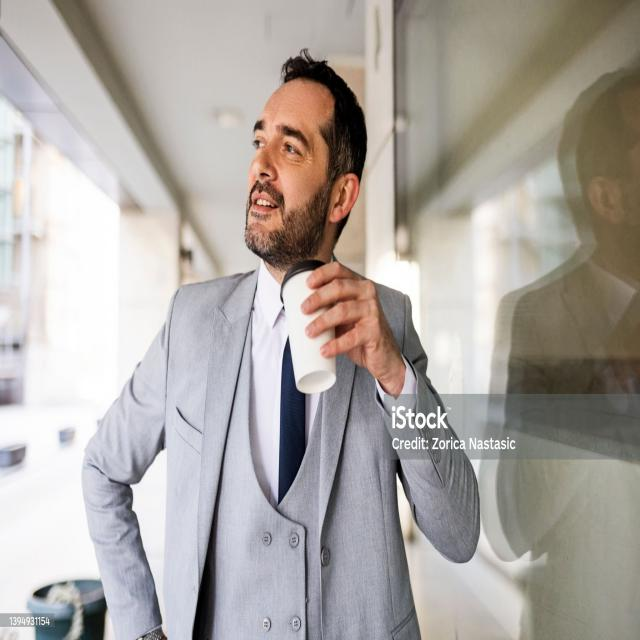cup: (280, 256, 340, 397)
